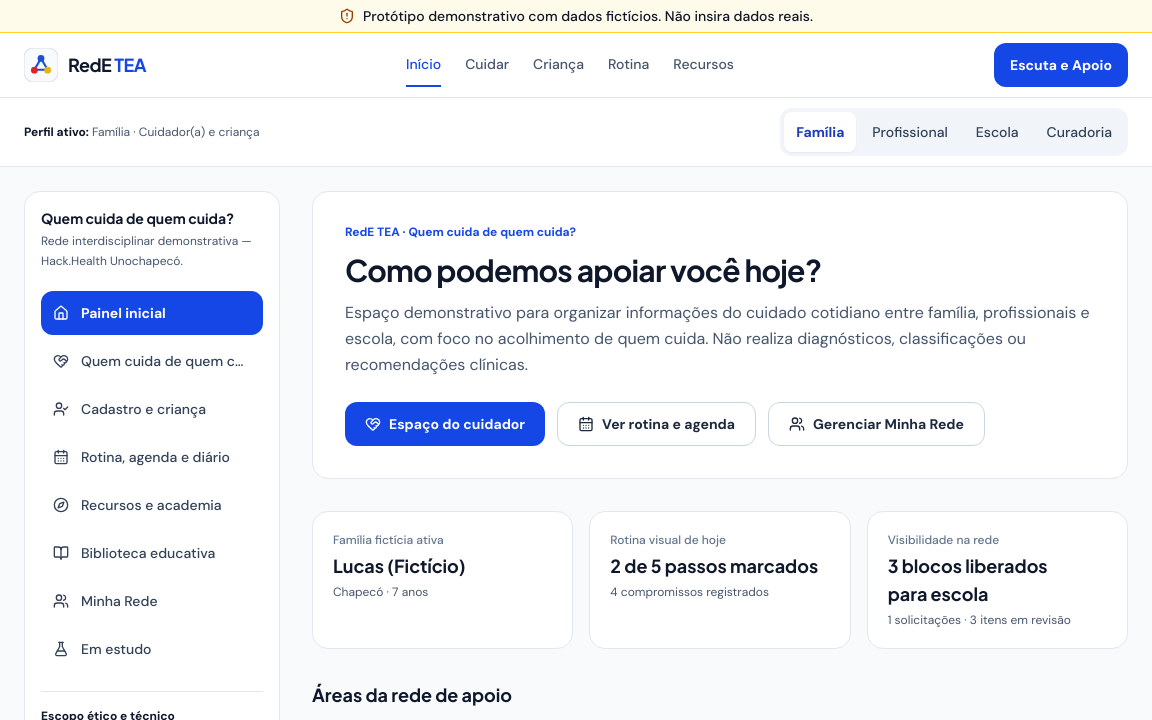
RedE TEA — Protótipo Navegável › valida mensagens de erro e salva o cadastro fictício em memória
Click the button "Cadastro e criança": [152, 409] box [41,387,263,431]
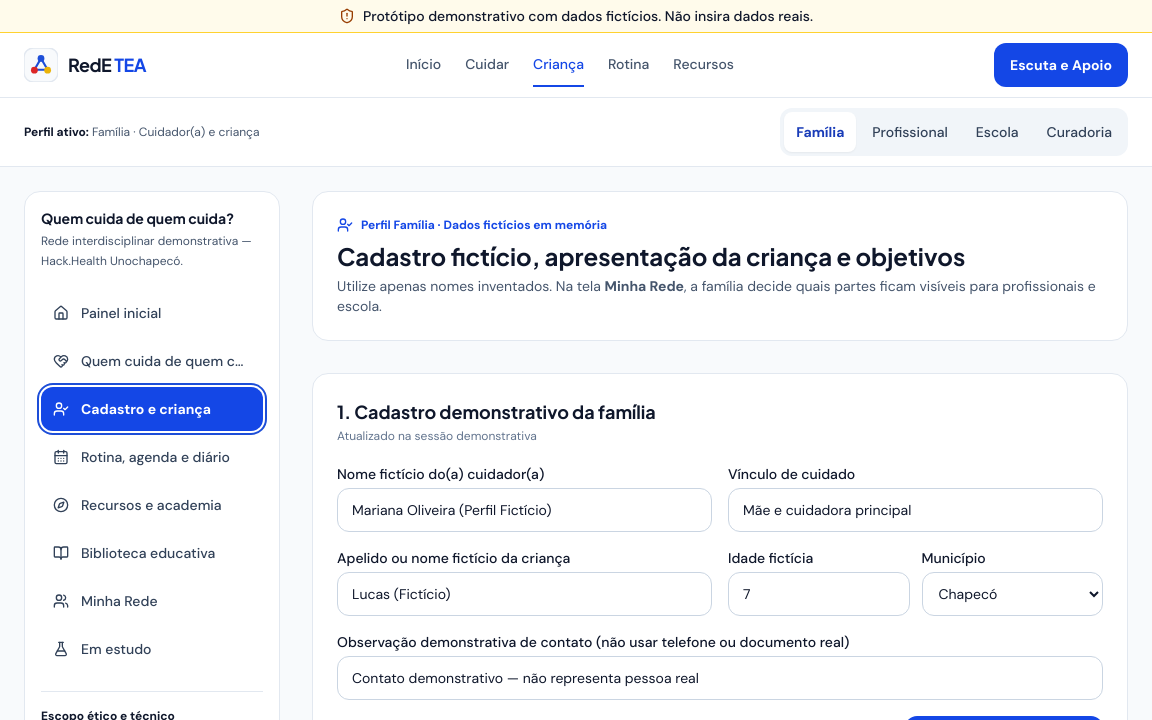
Replace the text in the number field labelled "Idade fictícia" with "99": [819, 594] box [728,572,910,616]
(page scrolled)
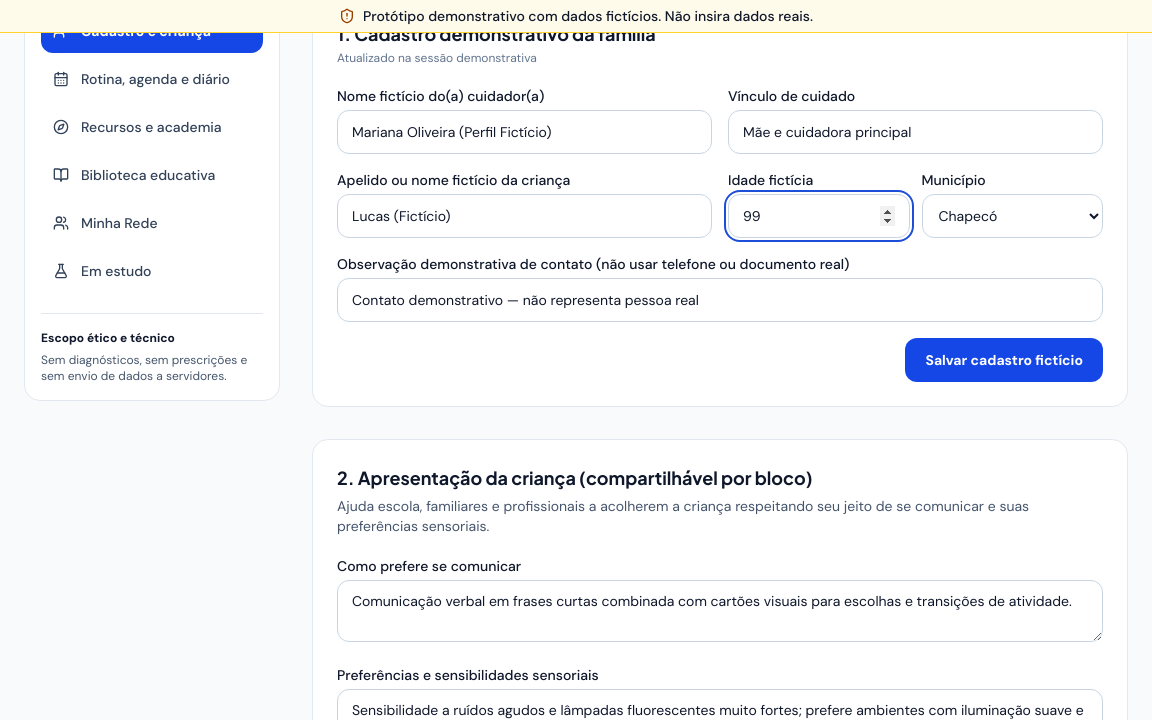
Click the button "Salvar cadastro fictício": [1004, 360] box [905,338,1103,382]
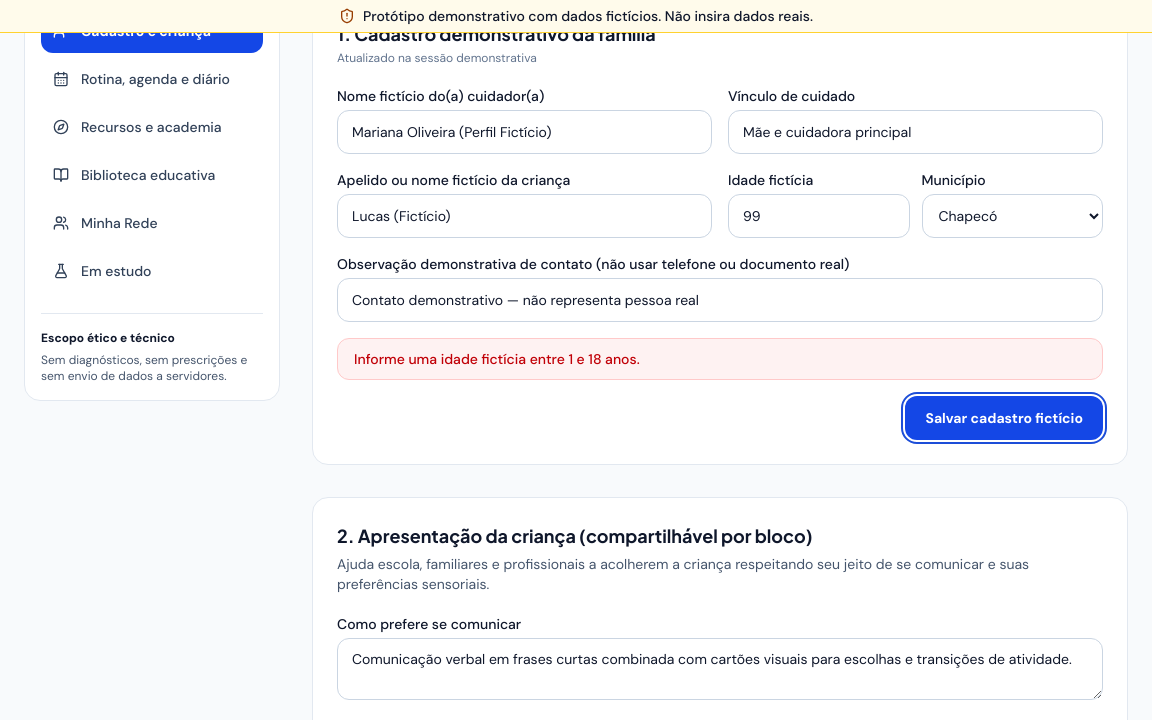
Expected: the message reads "Informe uma idade fictícia entre 1 e 18 anos.", [354,350,640,368]
Replace the text in the number field labelled "Idade fictícia" with "8": [819, 216] box [728,194,910,238]
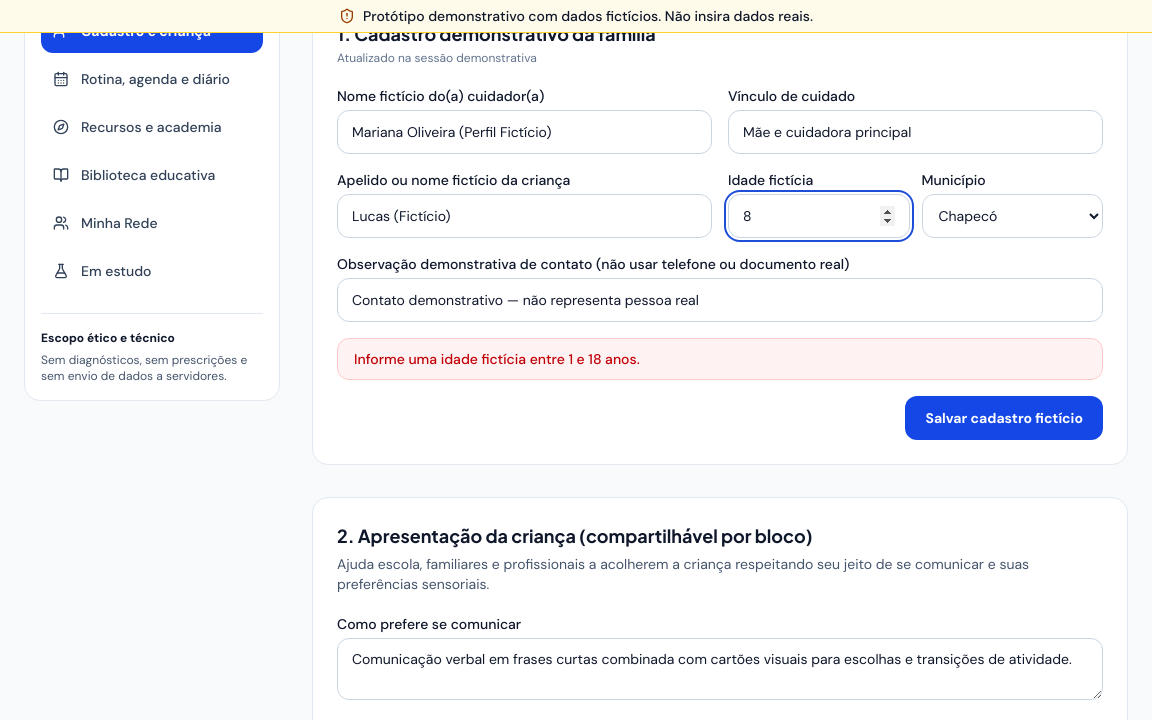
Replace the text in the field labelled "Apelido ou nome fictício da criança" with "Mateus (Fictício)": [524, 216] box [337,194,712,238]
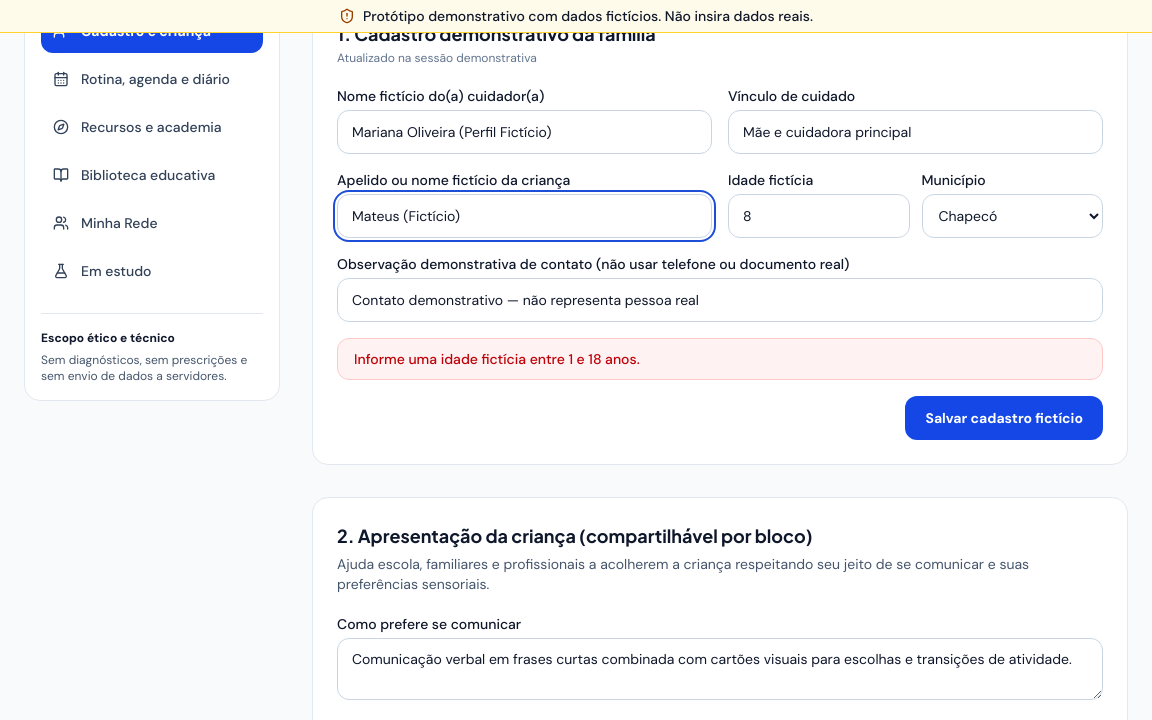
Click the button "Salvar cadastro fictício": [1004, 418] box [905,396,1103,440]
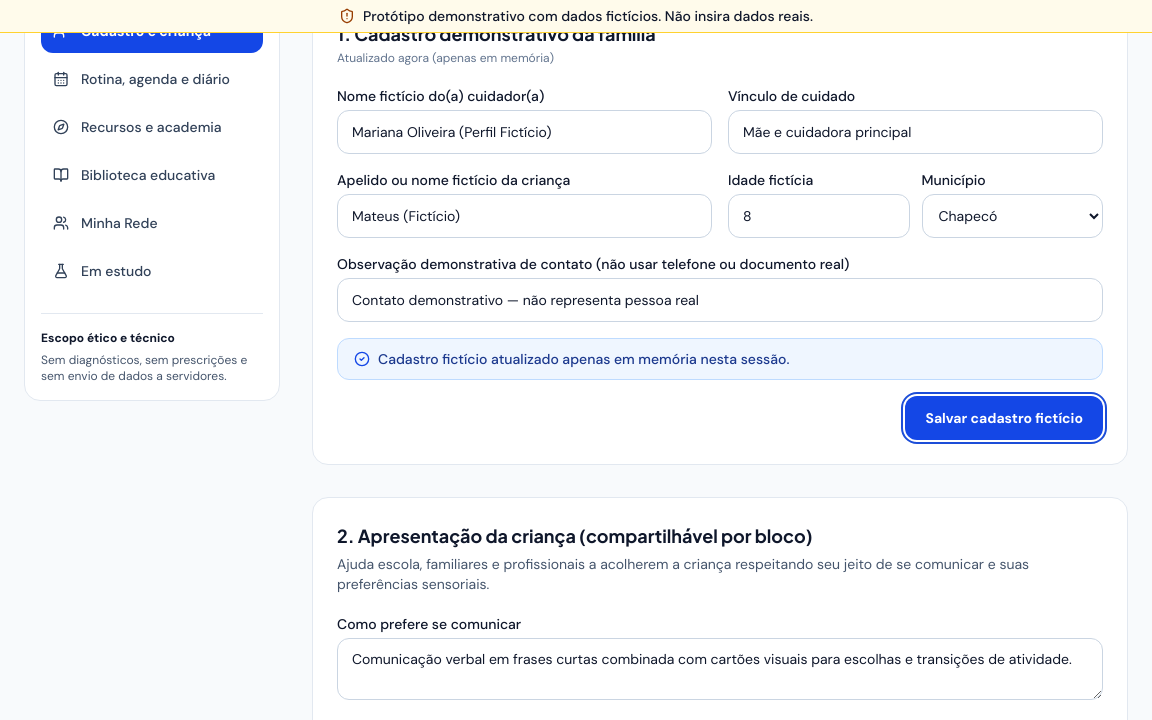
Expected: the message reads "Cadastro fictício atualizado apenas em memória nesta sessão.", [378,350,789,368]
